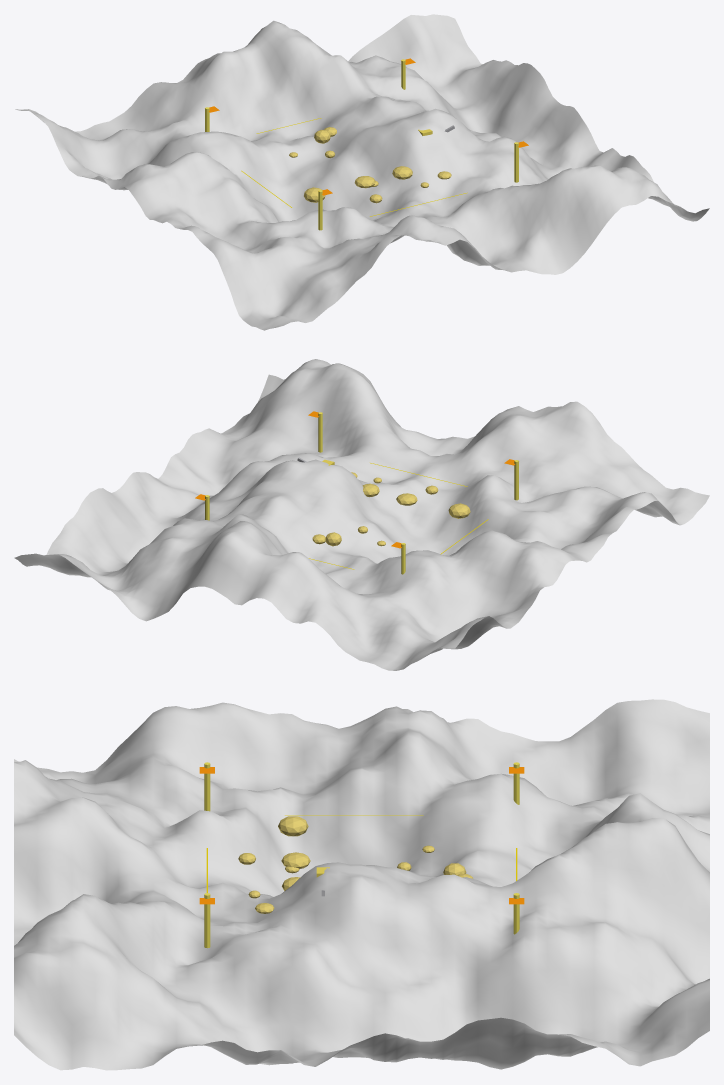
The model's file is ambler-district.glb.
3 views of the same model, one above another, from view 1: azimuth 30°, elevation 25°; view 2: azimuth 150°, elevation 25°; view 3: azimuth 270°, elevation 25° (orthographic). The views are drawn at different scales.
Visible parts, largest first — view 1: MiningTerrain; view 2: MiningTerrain; view 3: MiningTerrain.
Part boxes in pixels (<box>): MiningTerrain: <box>15,14,709,330</box>; MiningTerrain: <box>14,359,709,670</box>; MiningTerrain: <box>14,699,709,1070</box>.
Size of the model in its own units: 18 by 4.28 by 18.
